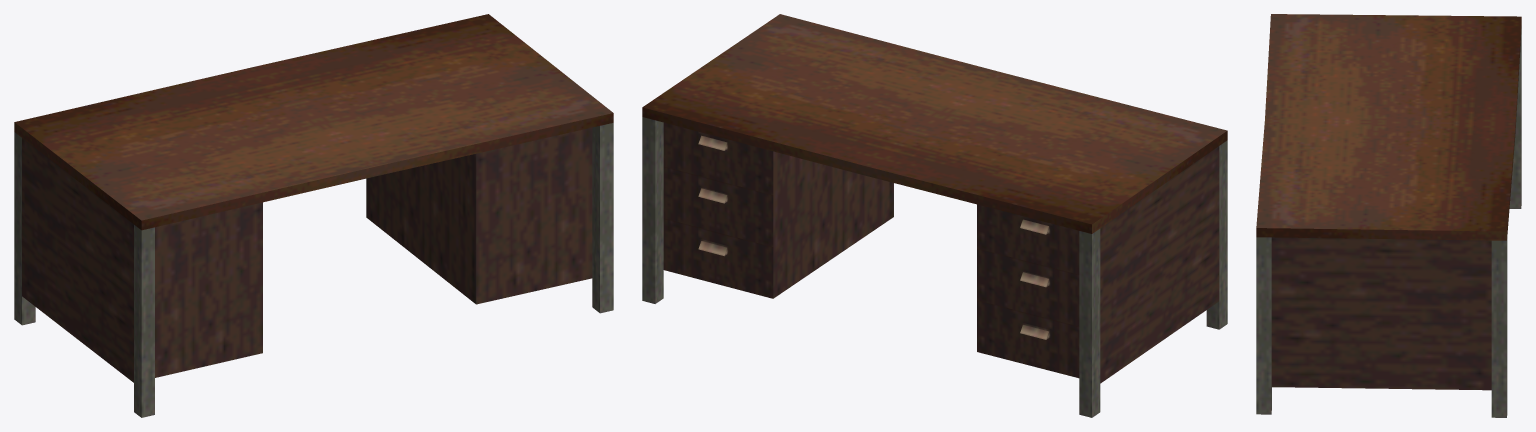
Rendered from desk_06.fbx.
The picture shows the model from 3 angles, left to right: view 1: azimuth 30°, elevation 25°; view 2: azimuth 150°, elevation 25°; view 3: azimuth 270°, elevation 25°; orthographic projection. The views are drawn at different scales.
Parts seen in each view (by area): view 1: desk2; view 2: desk2; view 3: desk2.
Part boxes in pixels (x1,y1,x2,y2): desk2: [14, 14, 613, 417]; desk2: [642, 14, 1227, 417]; desk2: [1256, 14, 1521, 417].
Bounding box in the file's own units: 223 × 89.11 × 115.
